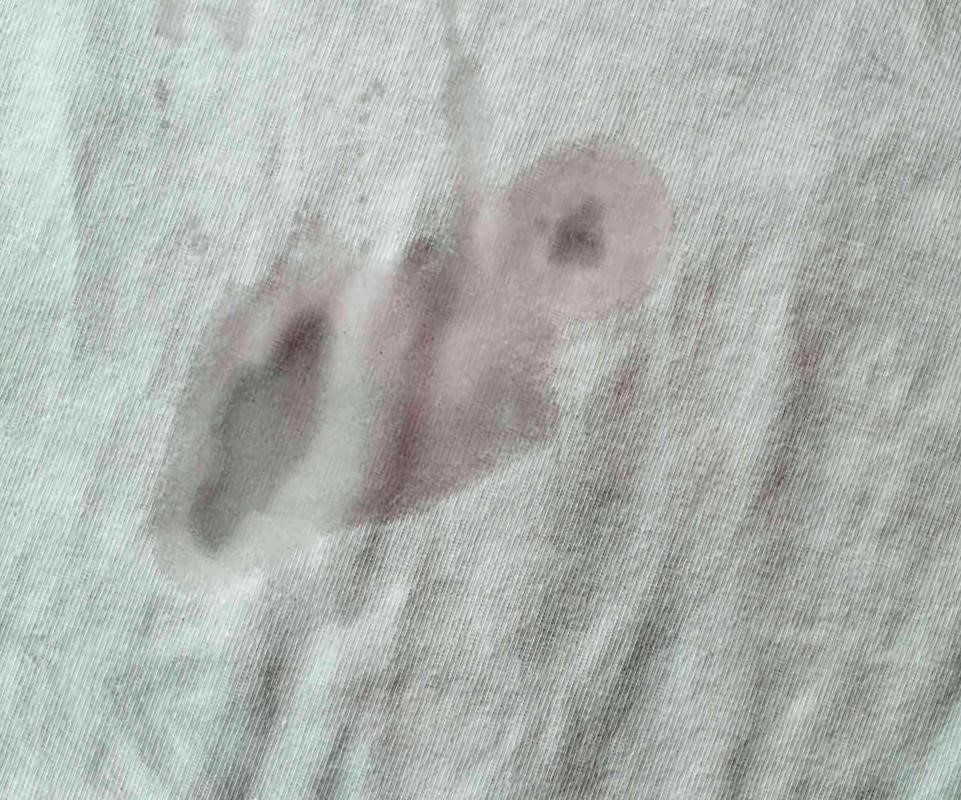stain: (144, 122, 697, 590)
